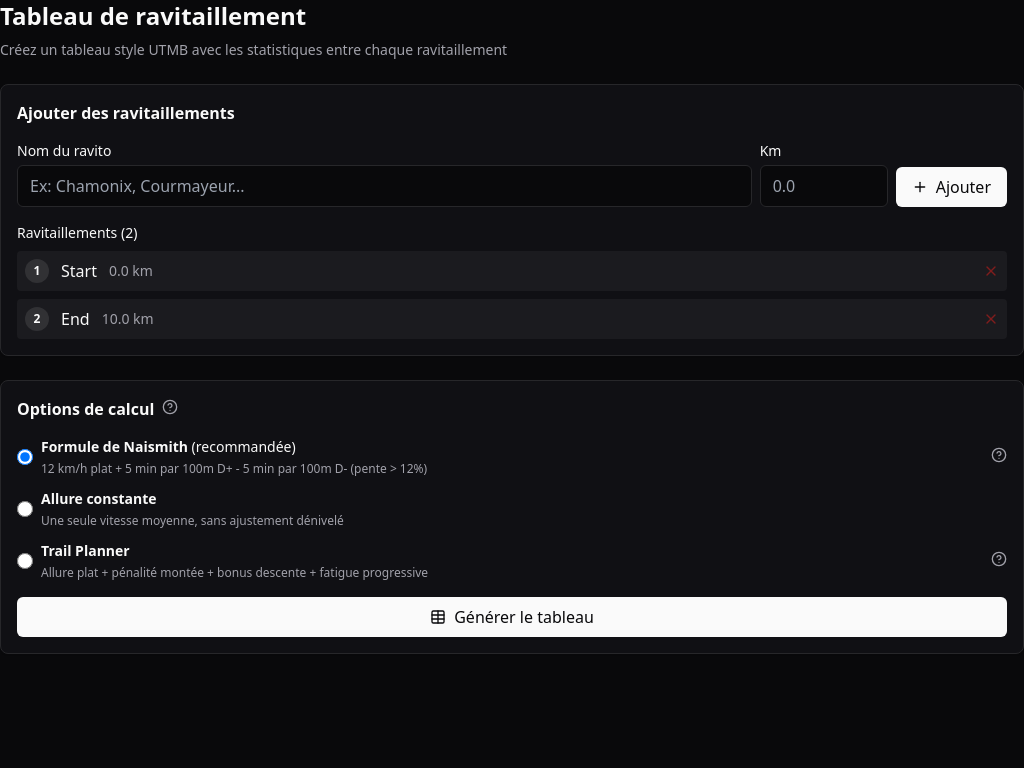
Scenario: AidStationTable — calc modes › fills the trail planner form with the Trail moyen preset
The image size is (1024, 768).
Click the radio button labelled "Trail Planner".
click(25, 561)  # box [17,553,33,569]
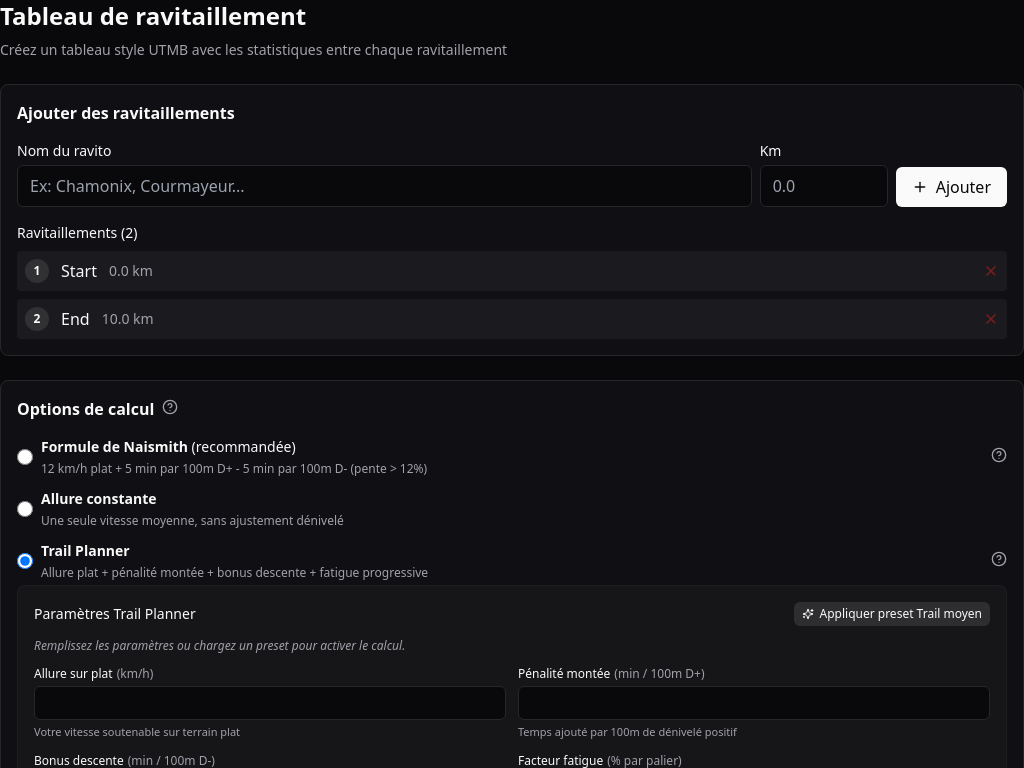
Click the button "Appliquer preset Trail moyen".
click(892, 614)  # box [794,602,990,626]
(page scrolled)
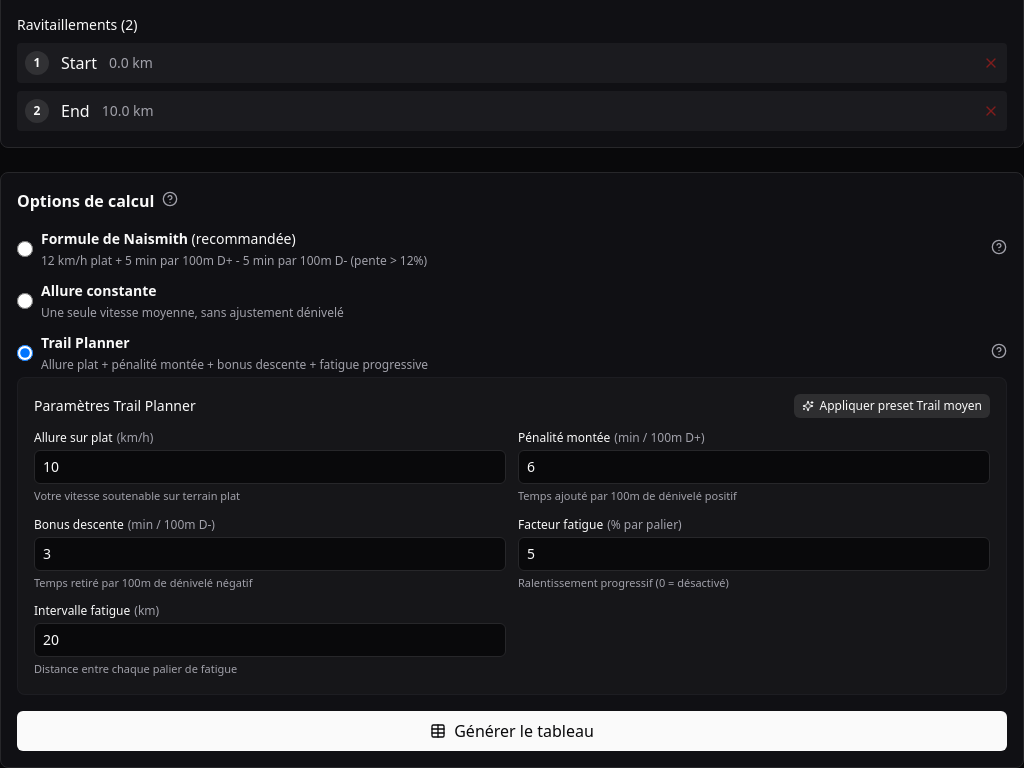
Now the number field labelled "Allure sur plat(km/h)" holds "10", box [34,450,506,484]
Now the number field labelled "Pénalité montée(min / 100m D+)" holds "6", box [518,450,990,484]
Now the number field labelled "Bonus descente(min / 100m D-)" holds "3", box [34,536,506,570]
